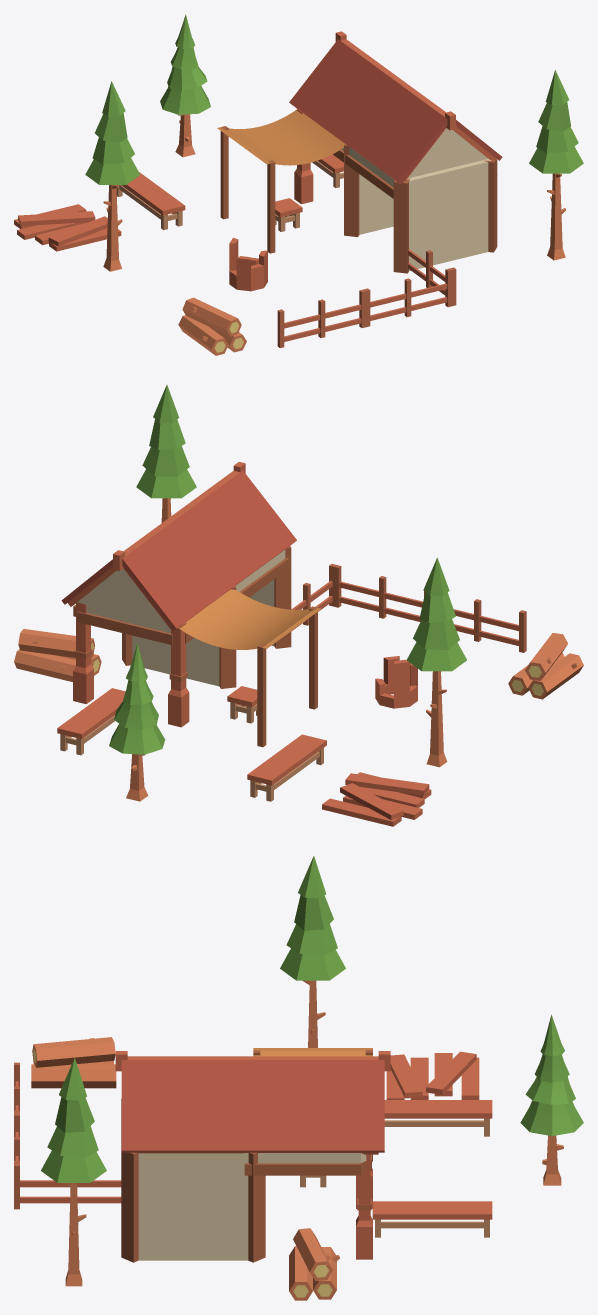
File: cabane_de_bucheron.glb
3 renders of one model, top to bottom at view 1: azimuth 30°, elevation 25°; view 2: azimuth 150°, elevation 25°; view 3: azimuth 270°, elevation 25°, orthographic. The views are drawn at different scales.
Visible parts, largest first — view 1: mergedBlocks(Clone); view 2: mergedBlocks(Clone); view 3: mergedBlocks(Clone).
Part boxes in pixels (left/top/right/bottom): mergedBlocks(Clone): left=14, top=14, right=583, bottom=355; mergedBlocks(Clone): left=14, top=385, right=583, bottom=826; mergedBlocks(Clone): left=14, top=856, right=583, bottom=1300.
Bounding box in the file's own units: 4.79 × 2.08 × 4.77.
1 material, 1 textured.
